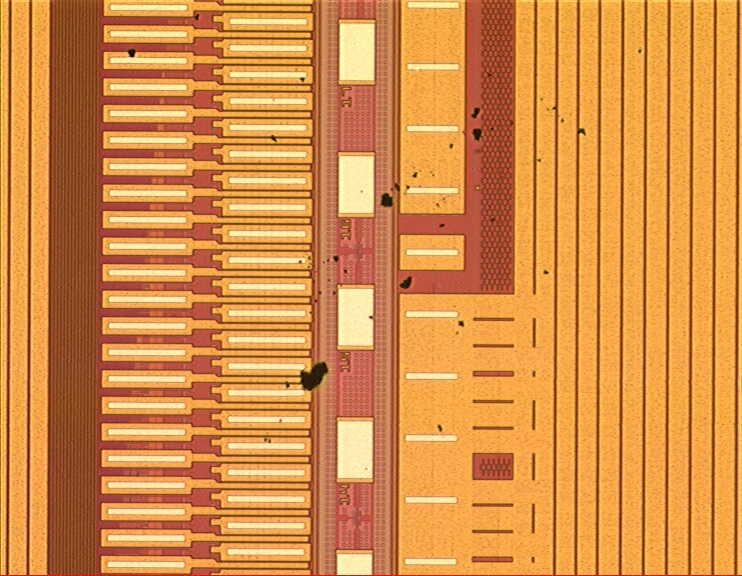PO CONTAMINATION: (126, 12, 647, 446)
